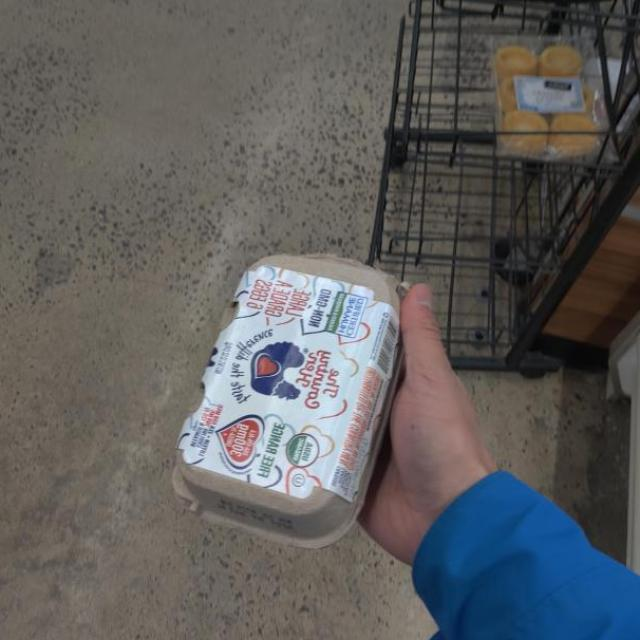Eggs: (150, 246, 422, 569)
